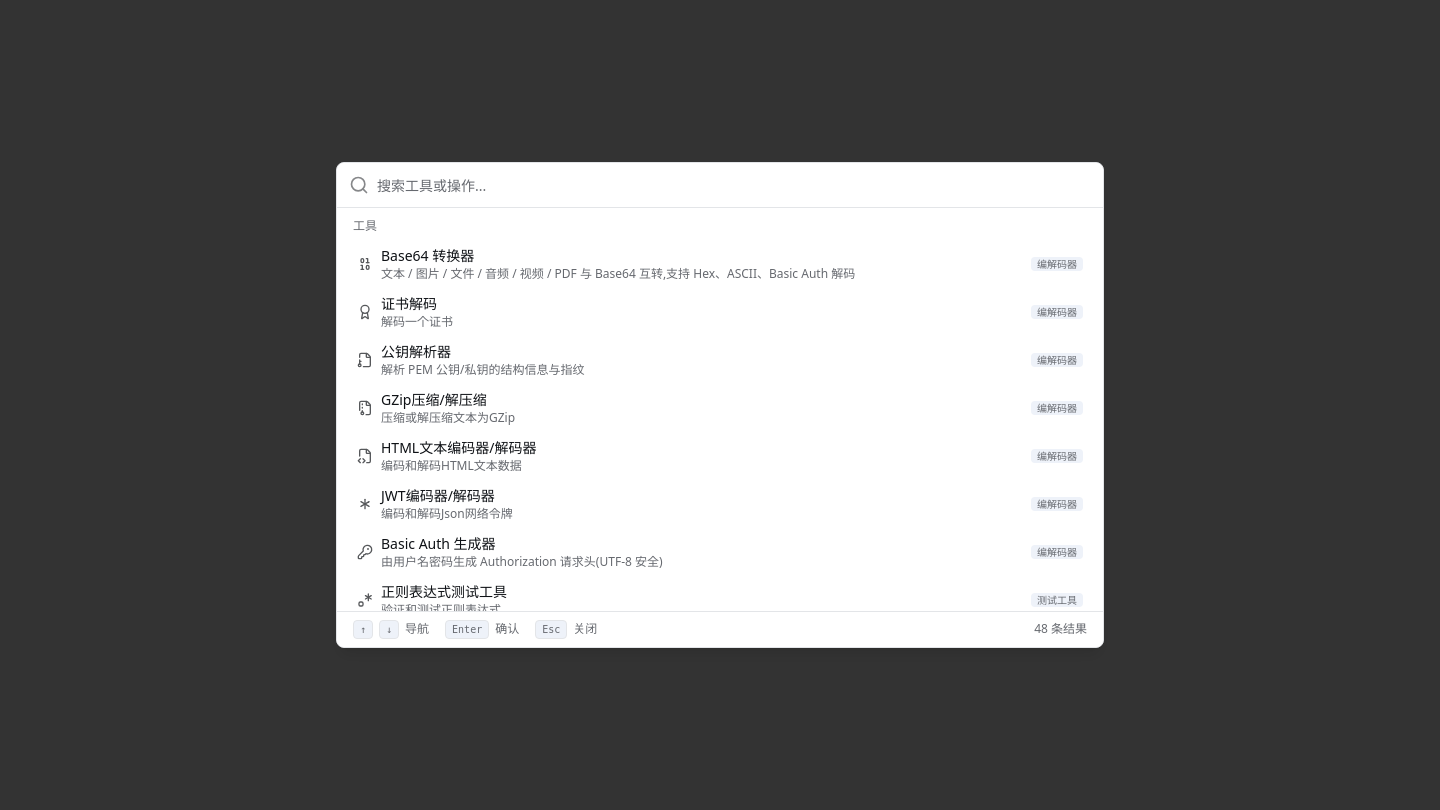
Test: CommandPalette › filters tools by search query
In the dropdown: (734, 185) [377, 163, 1091, 207], type "cron"
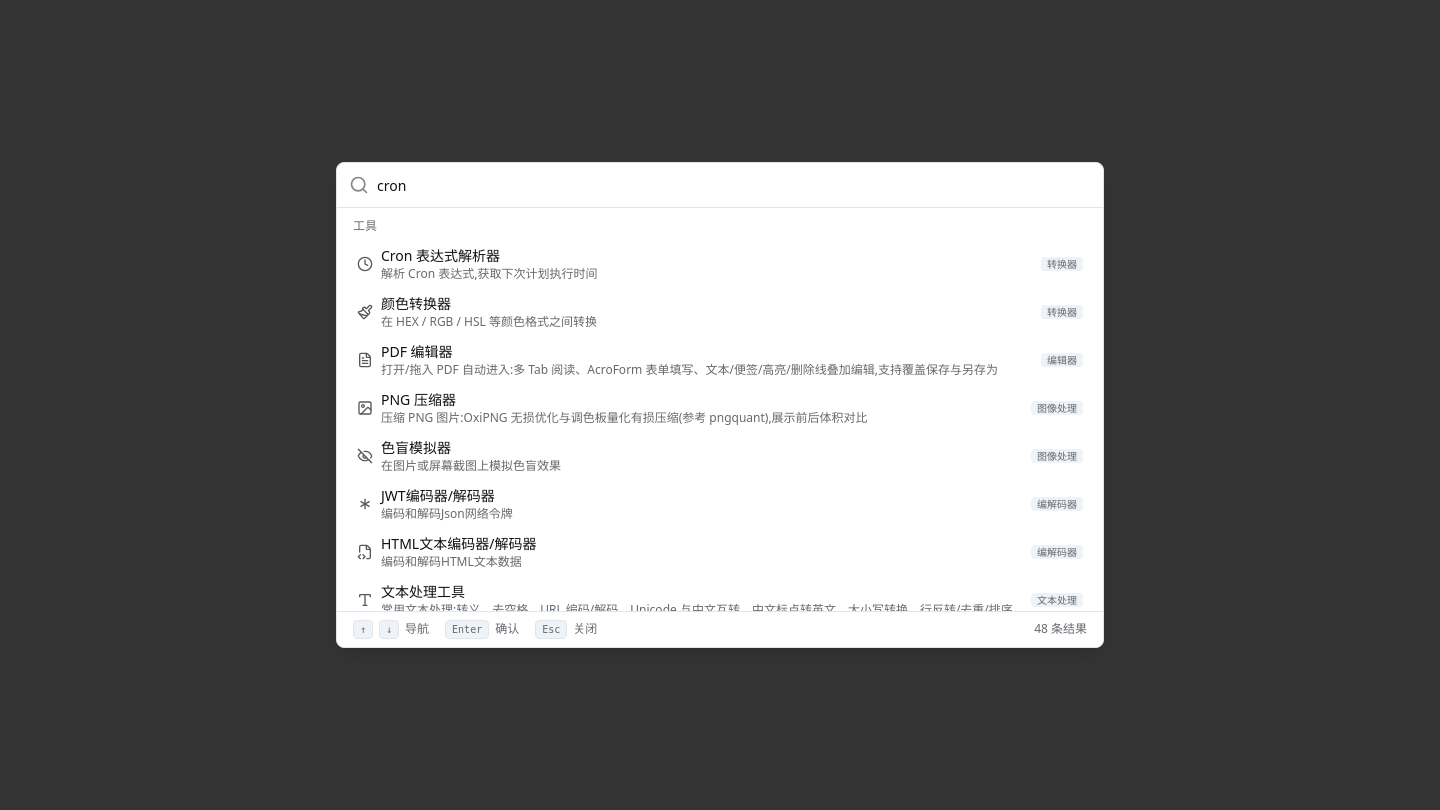
Check: the option "JSON 格式化器" is not shown
Check: the option "Cron 表达式解析器 解析 Cron 表达式,获取下次计划执行时间 转换器" is shown, box [345, 240, 1095, 288]
